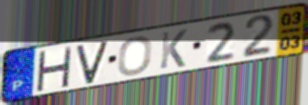2: (242, 13, 276, 60), (205, 21, 237, 65)
H: (33, 46, 74, 93)
K: (158, 28, 189, 71)
O: (116, 35, 154, 77)
V: (75, 38, 111, 86)
